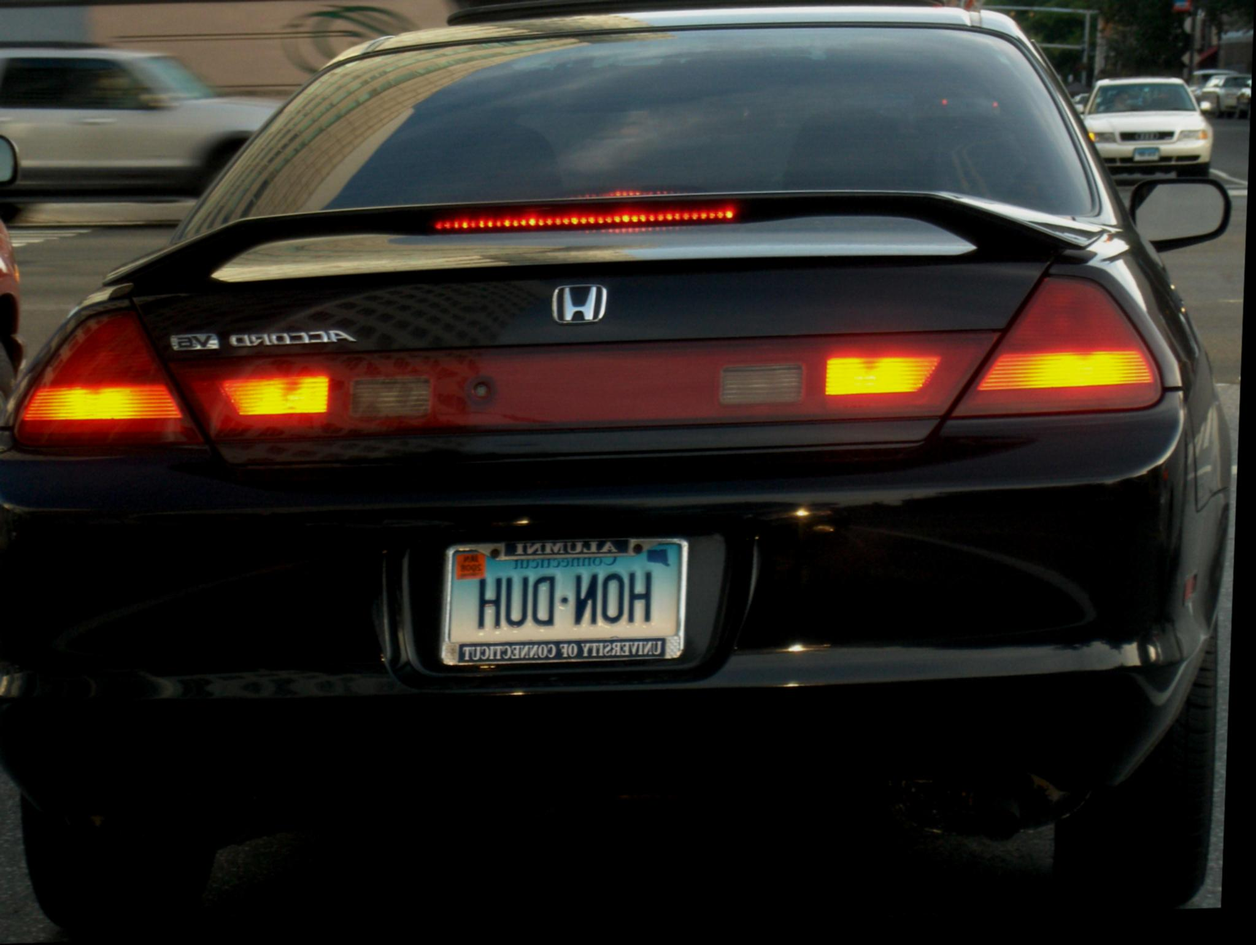License_Plate: (427, 519, 707, 683)
